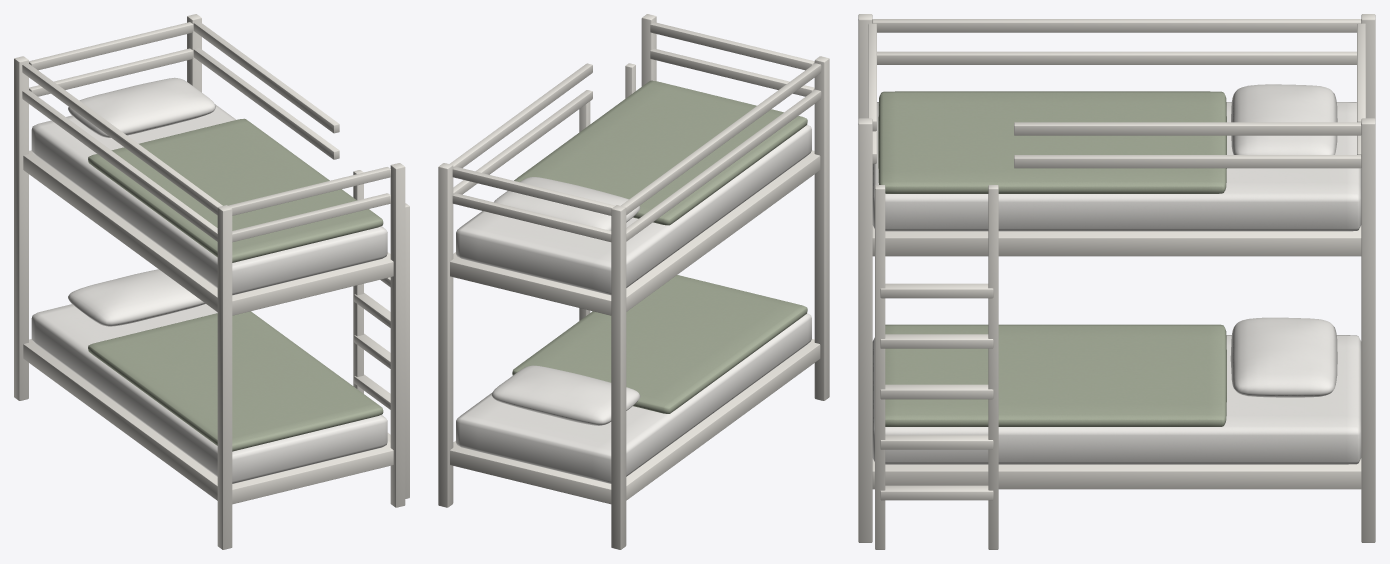
File: litera_madera_blanca.glb
3 views of the same model, side by side, from view 1: azimuth 30°, elevation 25°; view 2: azimuth 150°, elevation 25°; view 3: azimuth 270°, elevation 25° (orthographic). The views are drawn at different scales.
Visible parts, largest first — view 1: litera_madera_blanca; view 2: litera_madera_blanca; view 3: litera_madera_blanca.
Part boxes in pixels (<box>): litera_madera_blanca: <box>14,14,409,549</box>; litera_madera_blanca: <box>438,14,829,549</box>; litera_madera_blanca: <box>858,14,1375,549</box>.
Size of the model in its own units: 1.09 by 1.8 by 2.01.
3 materials, 2 textured.
